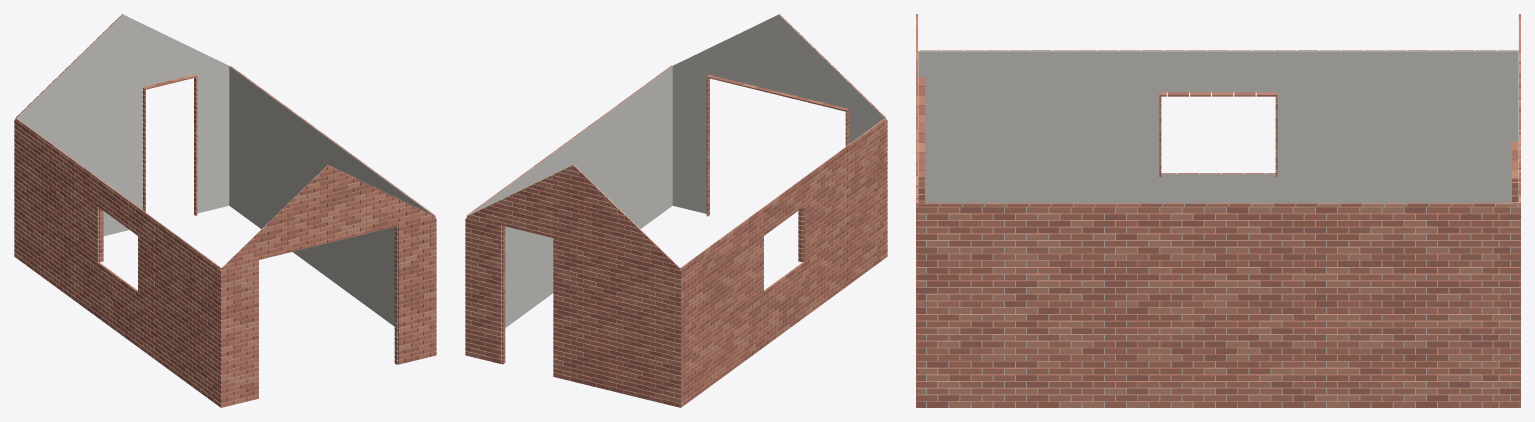
File: stage-8.glb
The picture shows the model from 3 angles, left to right: view 1: azimuth 30°, elevation 25°; view 2: azimuth 150°, elevation 25°; view 3: azimuth 270°, elevation 25°; orthographic projection. The views are drawn at different scales.
Parts seen in each view (by area): view 1: Geom3D (×7); view 2: Geom3D (×7); view 3: Geom3D (×7).
Boxes of the visible parts, x1,y1,x2,y2 form: Geom3D (×7): (14,14,436,407); Geom3D (×7): (465,14,887,407); Geom3D (×7): (916,14,1520,407).
Size of the model in its own units: 3.69 by 3.55 by 6.13.
